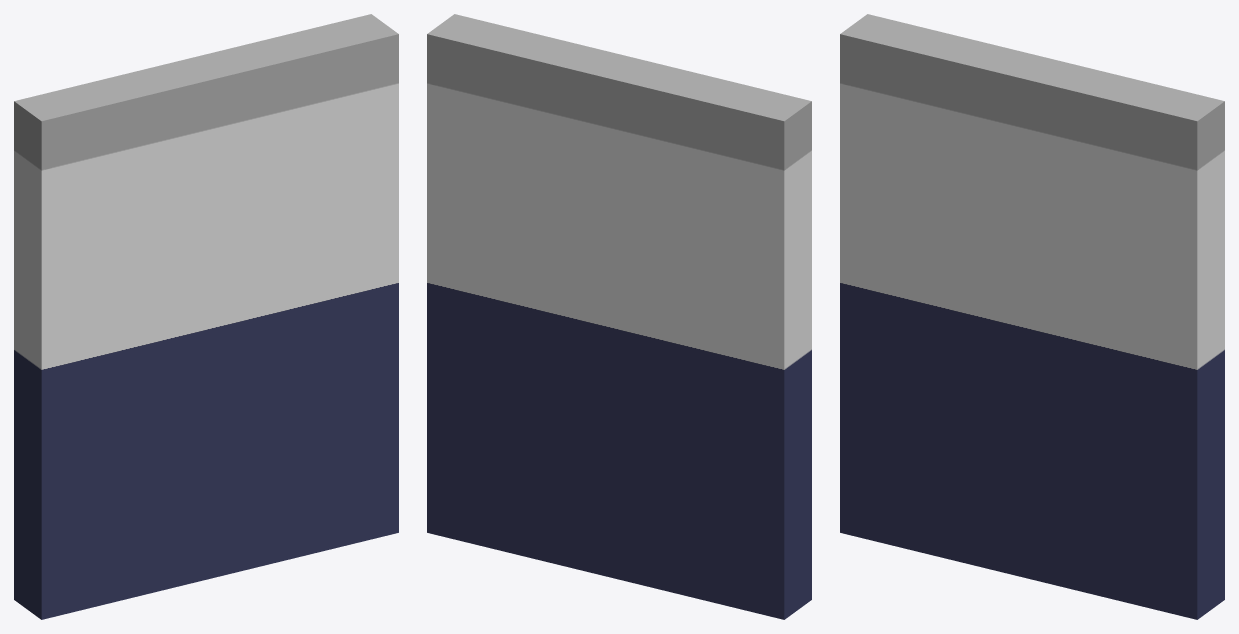
Rendered from ThickWallUnBroken.fbx.
3 renders of one model, left to right at view 1: azimuth 30°, elevation 25°; view 2: azimuth 150°, elevation 25°; view 3: azimuth 330°, elevation 25°, orthographic.
Parts seen in each view (by area): view 1: WallThick; view 2: WallThick; view 3: WallThick.
Boxes of the visible parts, box(x1,y1,x2,y2) form: WallThick: box(14, 14, 398, 619); WallThick: box(427, 14, 811, 619); WallThick: box(840, 14, 1224, 619).
Size of the model in its own units: 150 by 200 by 20.
Materials: 1 (1 with a texture image).
